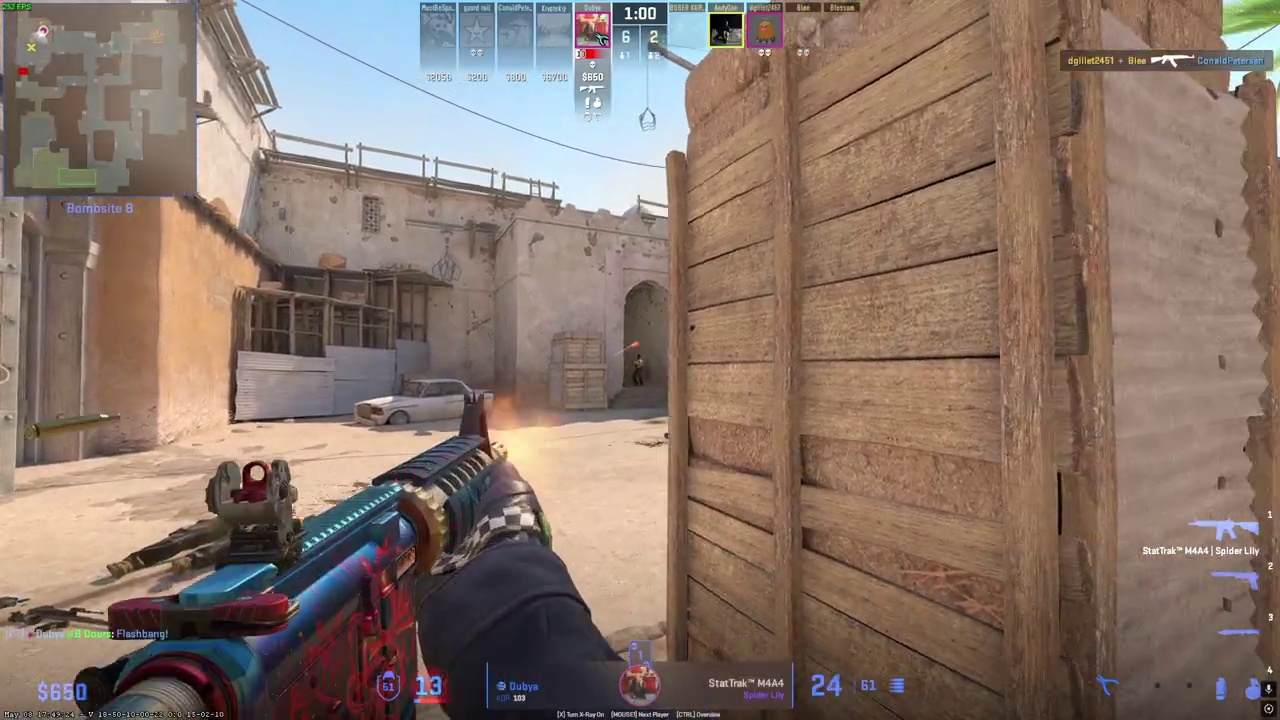Terrorist: (632, 354, 644, 386)
